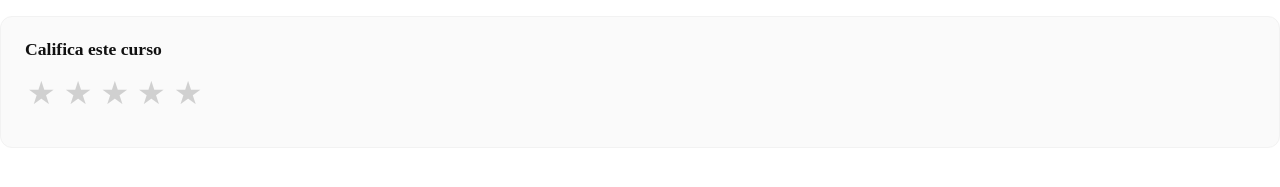
RatingSection › Manejo de errores › muestra mensaje de error si createRating falla
The width and height of the screenshot is (1280, 187).
What coordinates should you click on to do the following:
click the button named "Calificar con 2 estrellas"
I would click on:
 (78, 93)
Its box is [62,75,94,111].
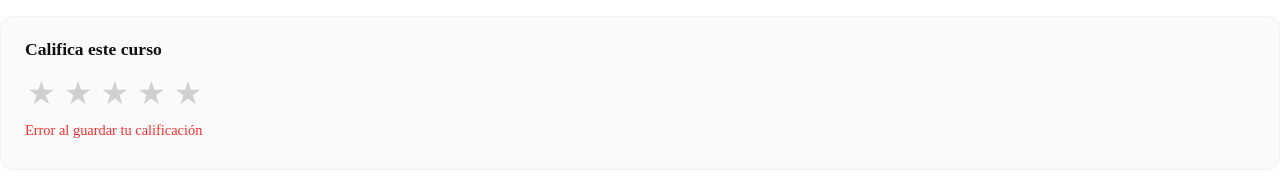
Result: the text "Error al guardar tu calificación" is shown at [25,122,202,138]
